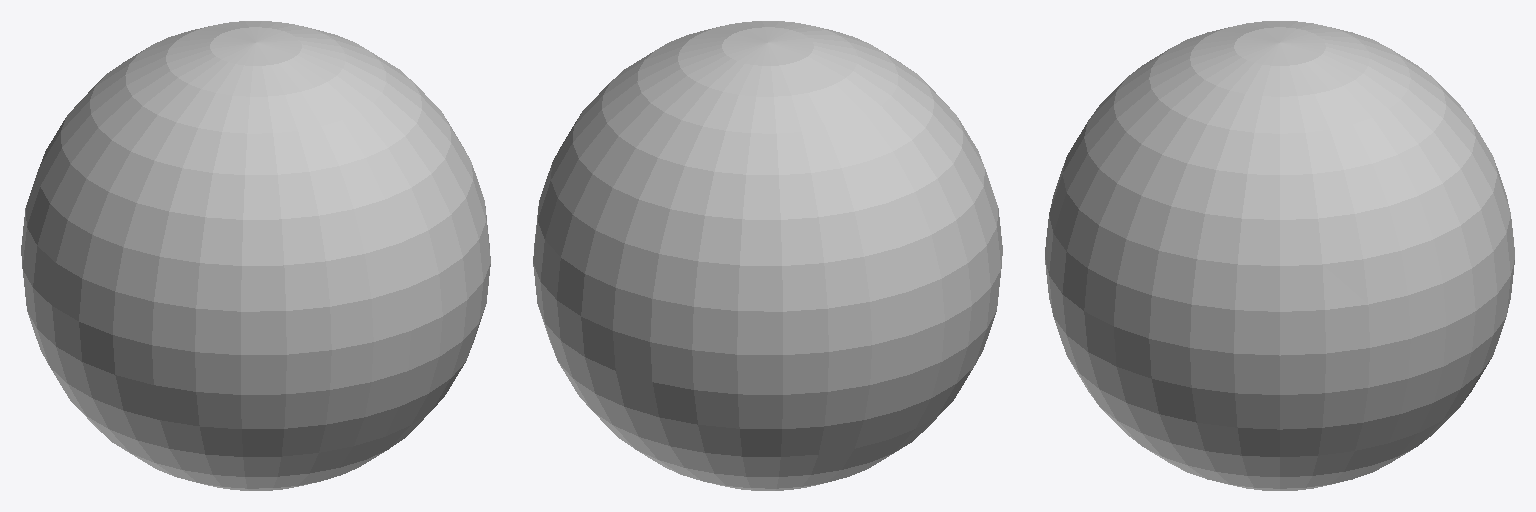
Rendered from models.obj.
The picture shows the model from 3 angles: view 1: azimuth 30°, elevation 25°; view 2: azimuth 150°, elevation 25°; view 3: azimuth 270°, elevation 25°; orthographic projection.
Parts seen in each view (by area): view 1: Sphere; view 2: Sphere; view 3: Sphere.
Part boxes in pixels (x1,y1,x2,y2): Sphere: (21,21,490,490); Sphere: (533,21,1002,490); Sphere: (1045,21,1514,490).
Size of the model in its own units: 0.2 by 0.2 by 0.2.